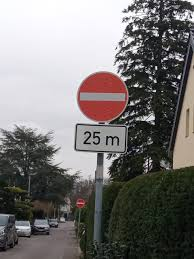noentry: (70, 63, 136, 127)
